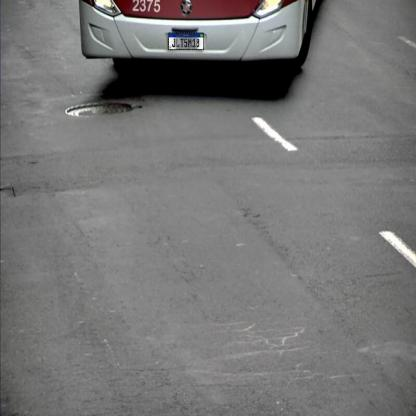PlacaM: (168, 33, 204, 50)
